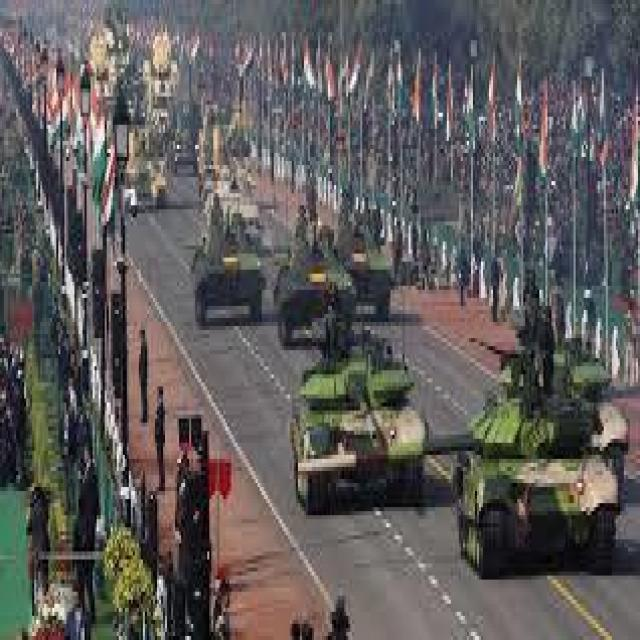MIL_MBT: (415, 280, 574, 614), (280, 324, 431, 557), (99, 58, 207, 203), (268, 183, 356, 344), (316, 175, 409, 324), (177, 201, 270, 338)
